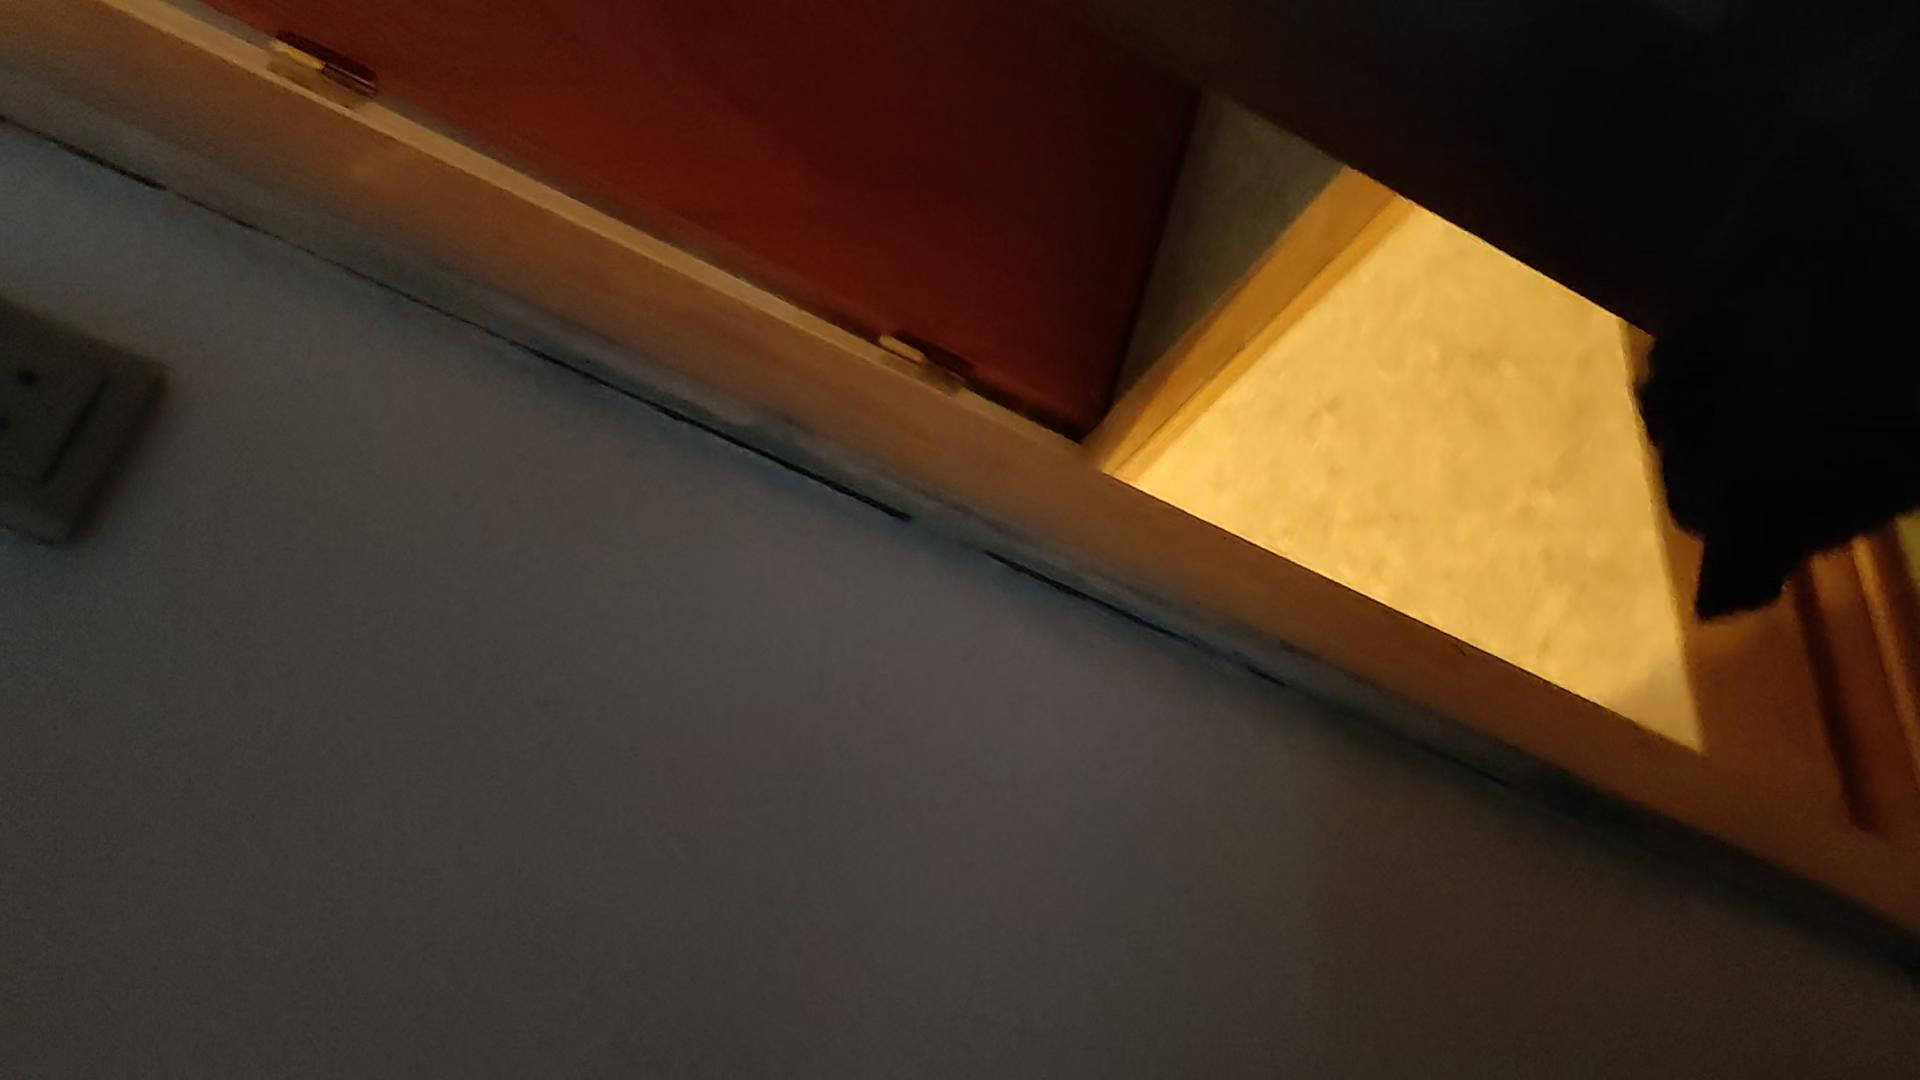Dog: (1619, 214, 1919, 622)
